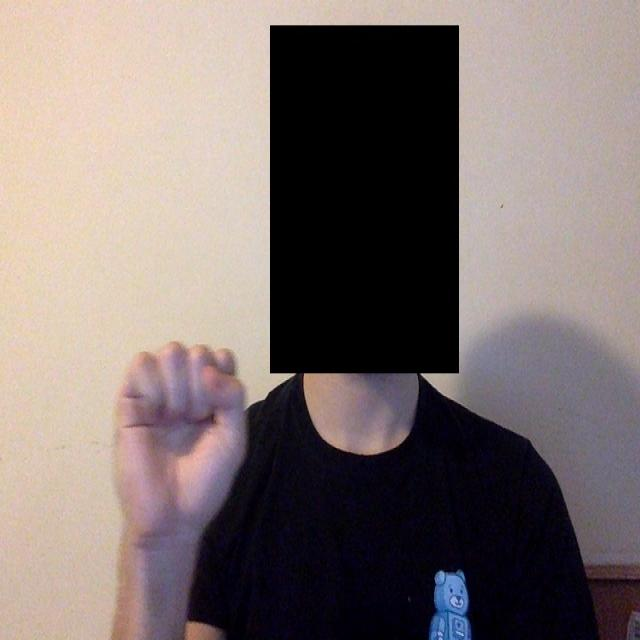S: (110, 331, 269, 536)
